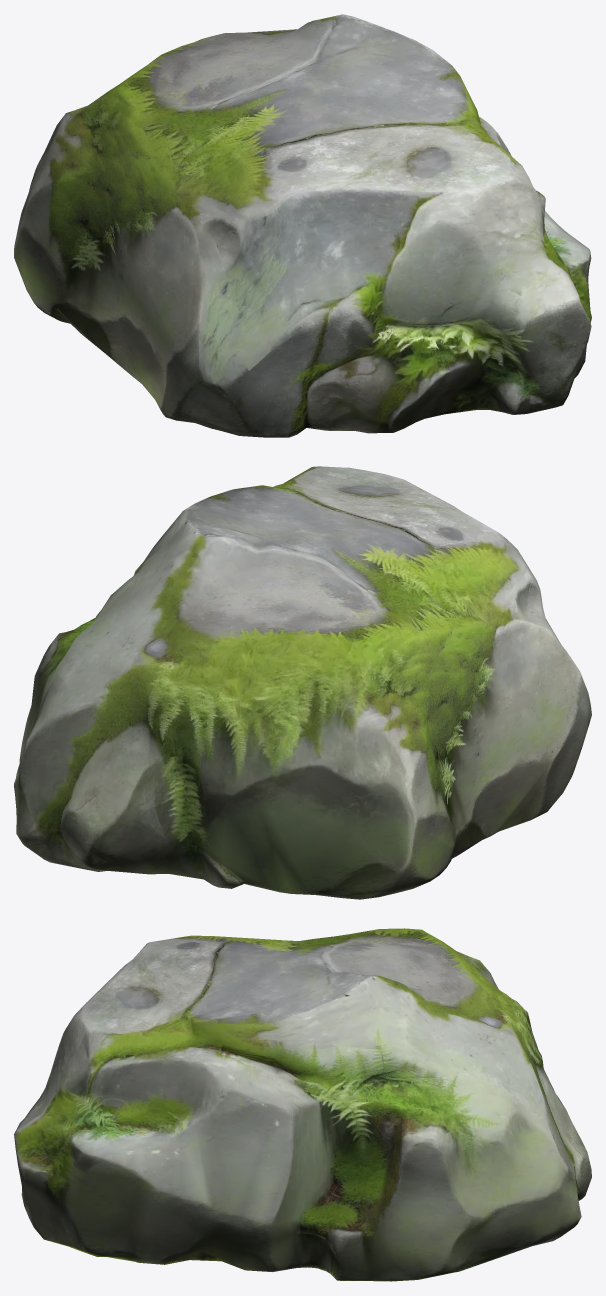
The model's file is rock_mossy_17.glb.
The picture shows the model from 3 angles, top to bottom: view 1: azimuth 30°, elevation 25°; view 2: azimuth 150°, elevation 25°; view 3: azimuth 270°, elevation 25°; orthographic projection. The views are drawn at different scales.
Parts seen in each view (by area): view 1: mossy_green_rock17_LOW_RES; view 2: mossy_green_rock17_LOW_RES; view 3: mossy_green_rock17_LOW_RES.
Part boxes in pixels (<box>): mossy_green_rock17_LOW_RES: <box>14,14,591,437</box>; mossy_green_rock17_LOW_RES: <box>14,466,591,899</box>; mossy_green_rock17_LOW_RES: <box>14,928,591,1281</box>.
Bounding box in the file's own units: 0.734 × 0.501 × 0.9998.
1 material, 1 textured.
